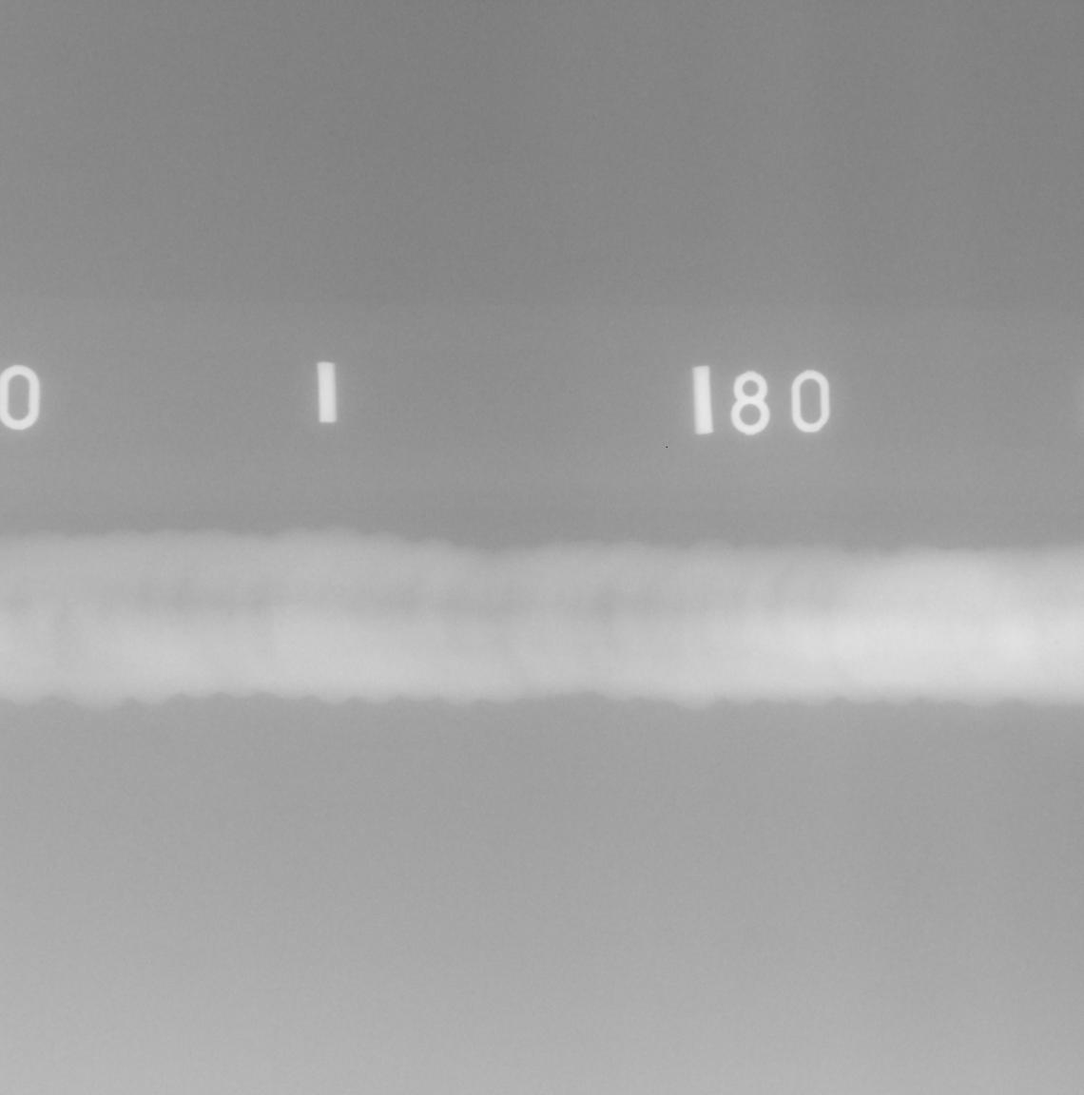Pore/Porosity: (228, 613, 233, 617)
